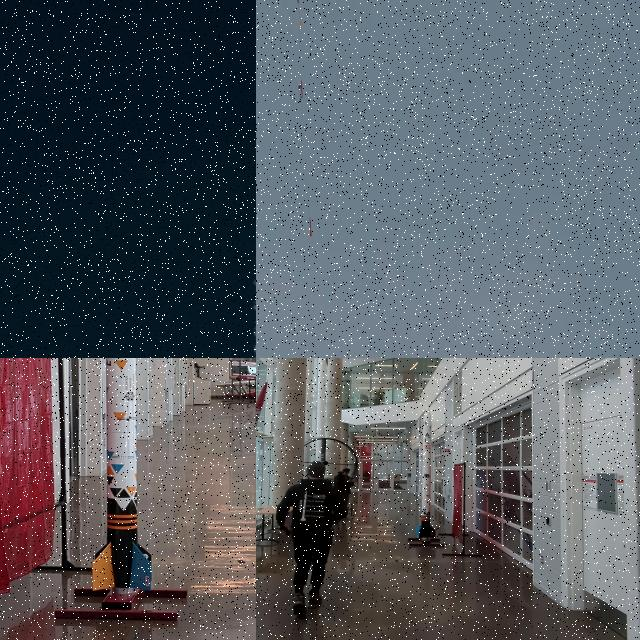Rocket: (92, 358, 152, 591), (416, 404, 436, 539), (309, 218, 312, 236)
